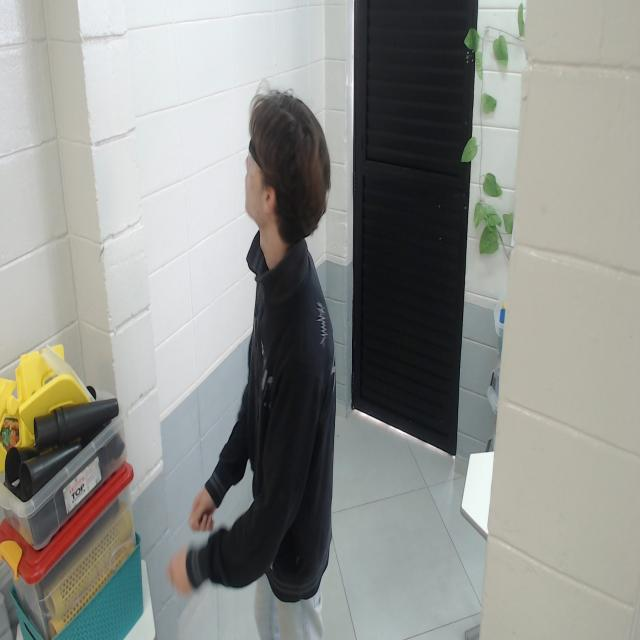oculos-epi: (249, 139, 262, 169)
